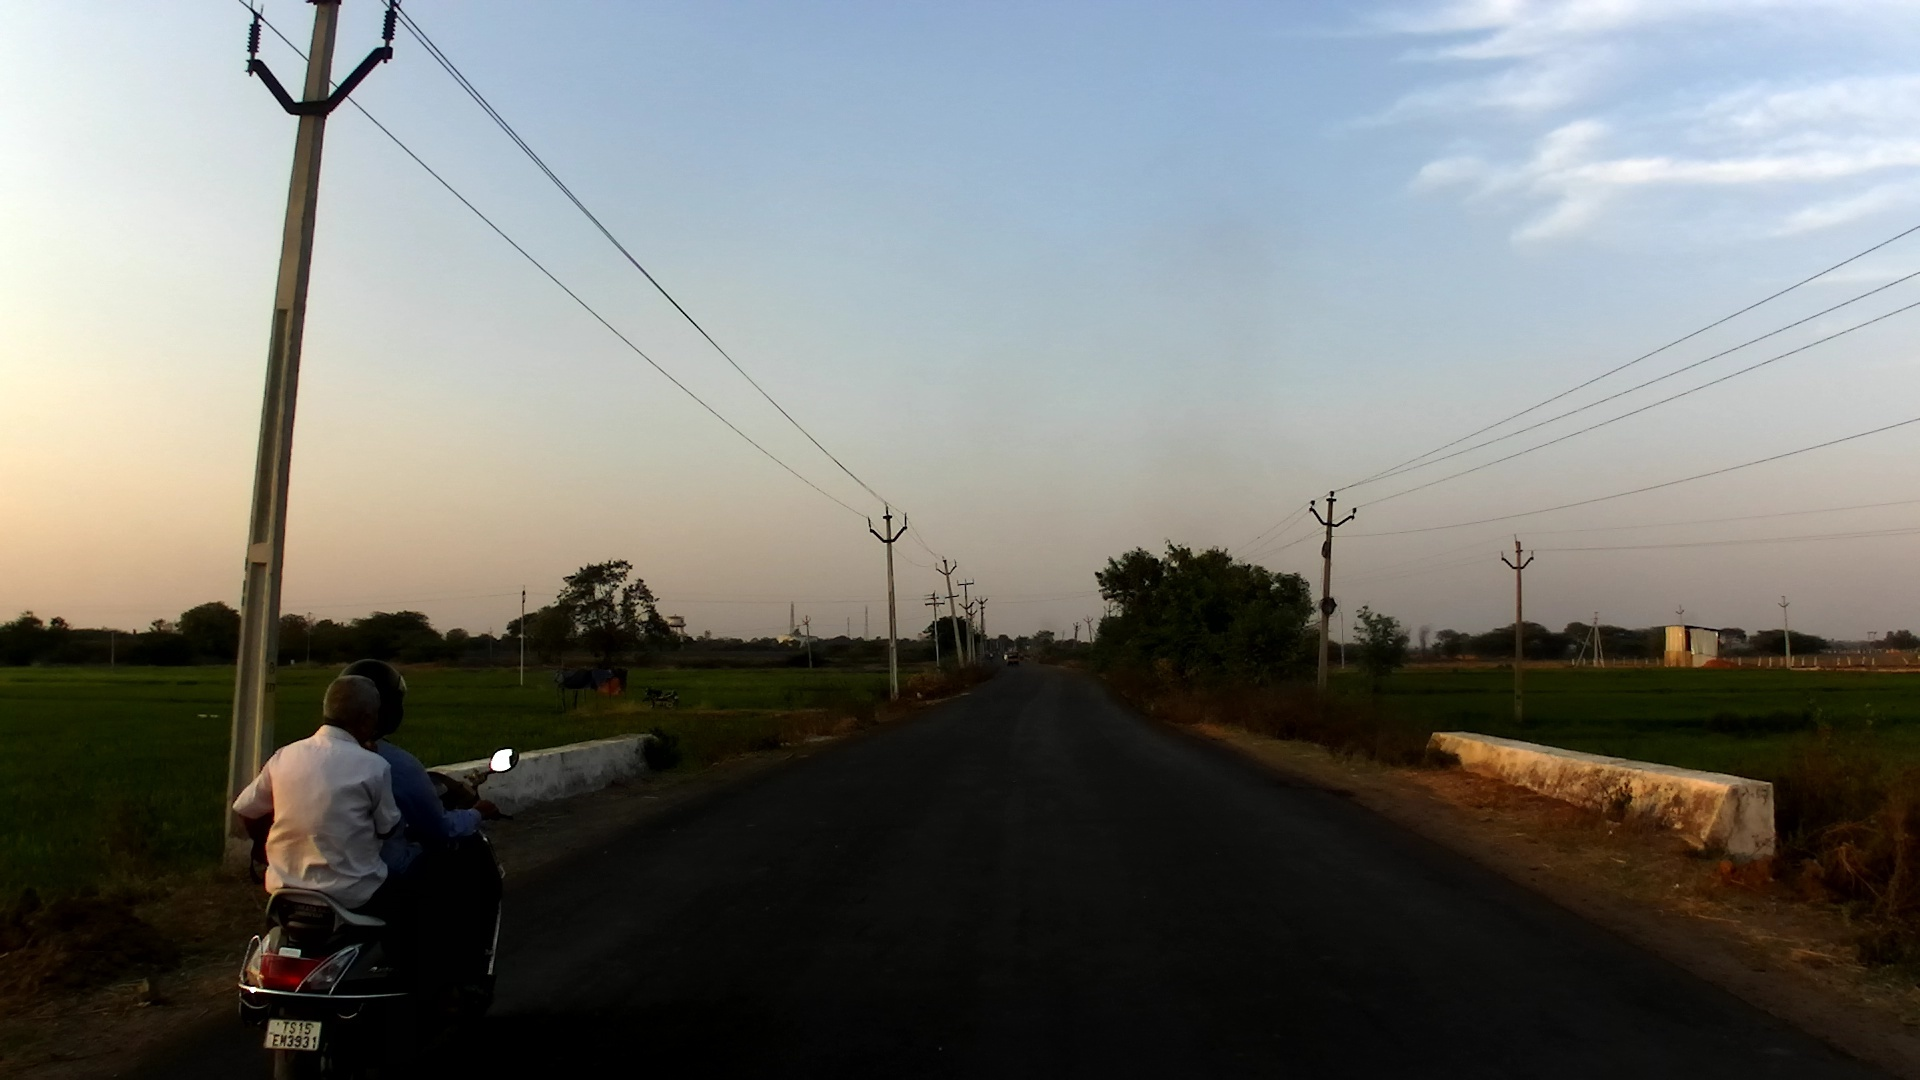car: (1002, 651, 1021, 671)
motorcycle: (235, 747, 516, 1080), (639, 685, 679, 715)
rider: (231, 672, 464, 1039), (332, 659, 502, 1061)
